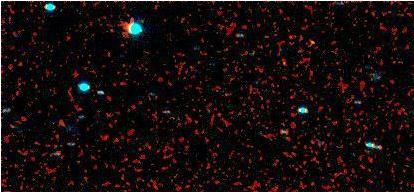star: (297, 27, 327, 57)
